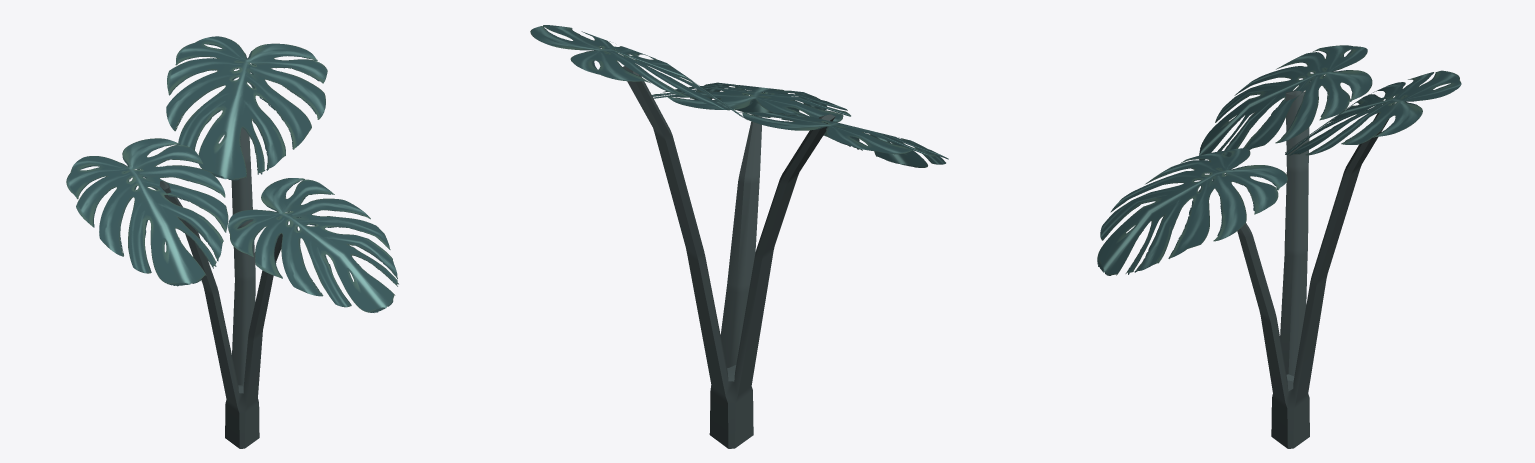
The model's file is taro01.fbx.
3 views of the same model, side by side, from view 1: azimuth 30°, elevation 25°; view 2: azimuth 150°, elevation 25°; view 3: azimuth 270°, elevation 25° (orthographic). The views are drawn at different scales.
Parts seen in each view (by area): view 1: taro01; view 2: taro01; view 3: taro01.
Boxes of the visible parts, x1,y1,x2,y2 form: taro01: (66, 36, 398, 448); taro01: (530, 25, 948, 448); taro01: (1097, 45, 1461, 448).
Size of the model in its own units: 1.28 by 1.27 by 1.39.
